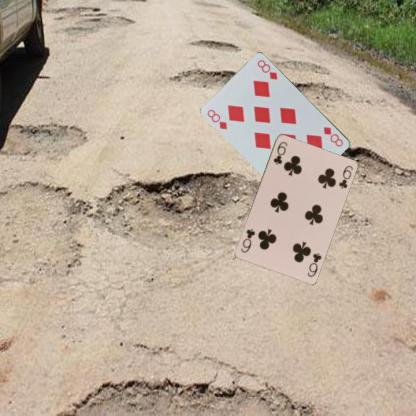6c: (304, 250, 323, 278), (270, 138, 288, 166)
8d: (205, 107, 228, 130), (322, 124, 344, 148)
